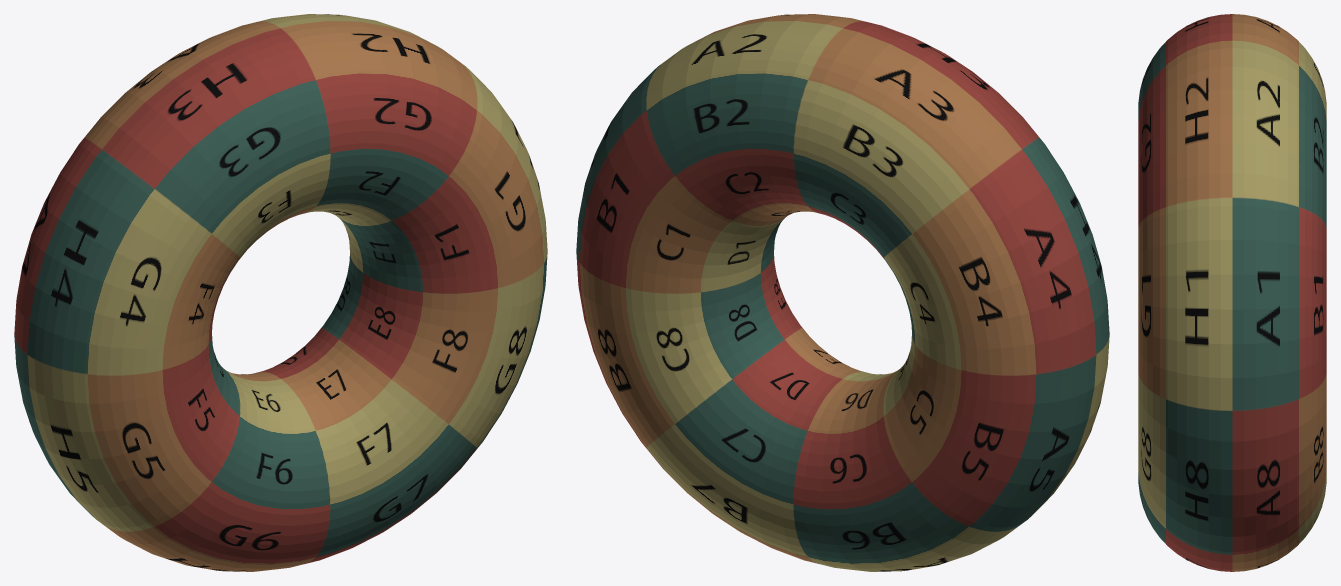
File: texture_torus_R5_r18.glb
The picture shows the model from 3 angles, left to right: view 1: azimuth 30°, elevation 25°; view 2: azimuth 150°, elevation 25°; view 3: azimuth 270°, elevation 25°; orthographic projection. The views are drawn at different scales.
Visible parts, largest first — view 1: world; view 2: world; view 3: world.
Part boxes in pixels (x1,y1,x2,y2): world: [14, 14, 547, 571]; world: [576, 14, 1109, 571]; world: [1138, 14, 1326, 571].
Bounding box in the file's own units: 20.13 × 20.09 × 6.79.
Materials: 1 (1 with a texture image).
